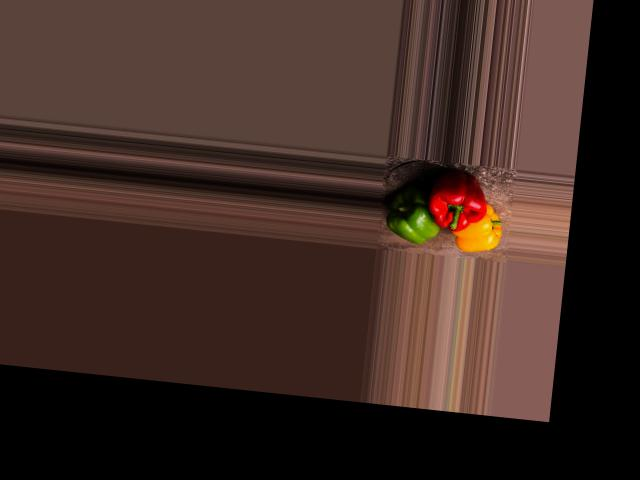bell_pepper: (453, 200, 504, 257)
